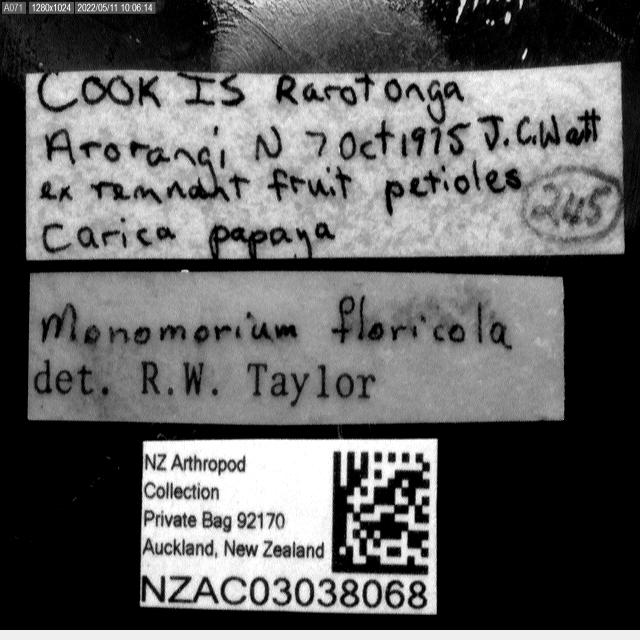hand_label: (26, 62, 624, 259)
mixed_label: (29, 272, 564, 425)
typed_label: (140, 439, 438, 614)
